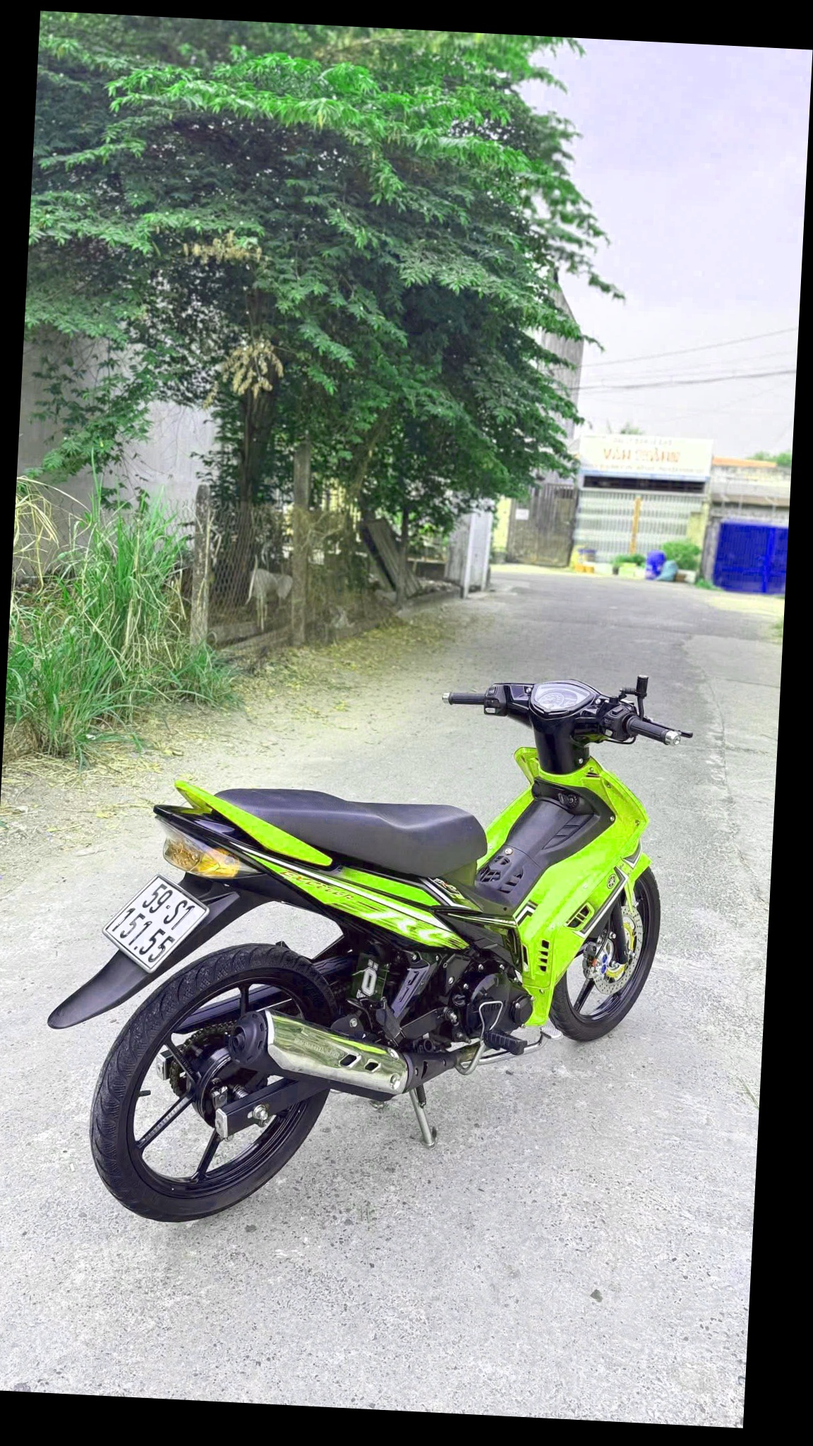Bien-so: (128, 856, 242, 958)
